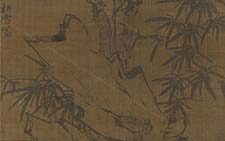bamboo: (146, 1, 223, 121), (1, 57, 77, 124)
hill: (32, 16, 167, 131)
